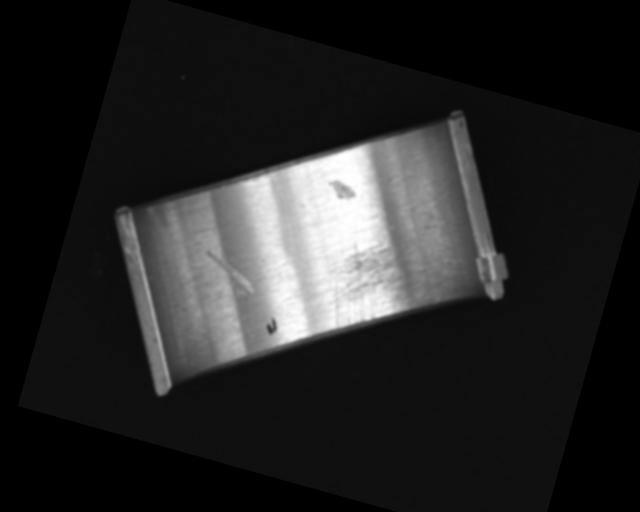blot: (264, 315, 280, 337)
bruise: (324, 177, 359, 203)
nick: (234, 270, 282, 355), (199, 250, 262, 297)
scratch: (312, 225, 446, 353)
